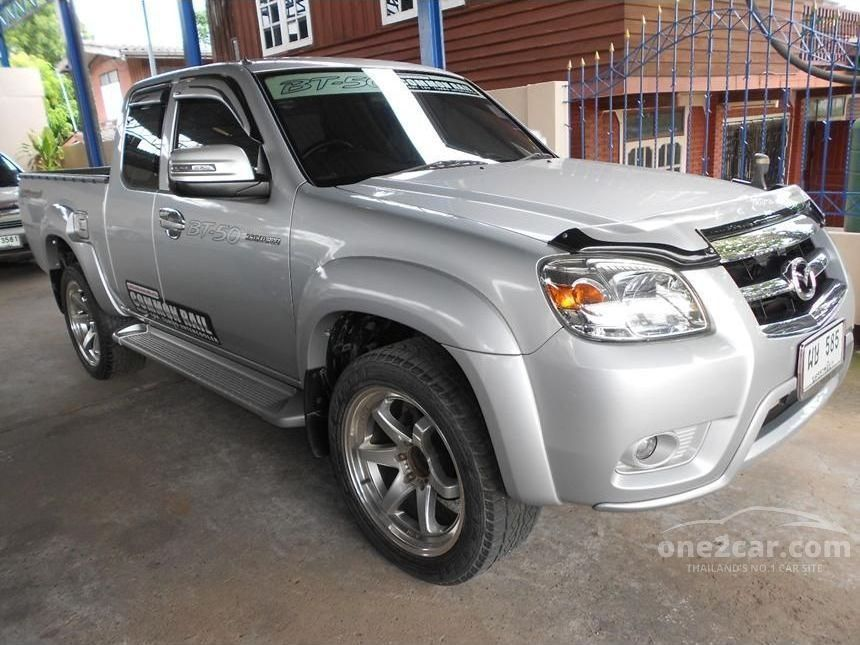pickup: (15, 56, 848, 582)
